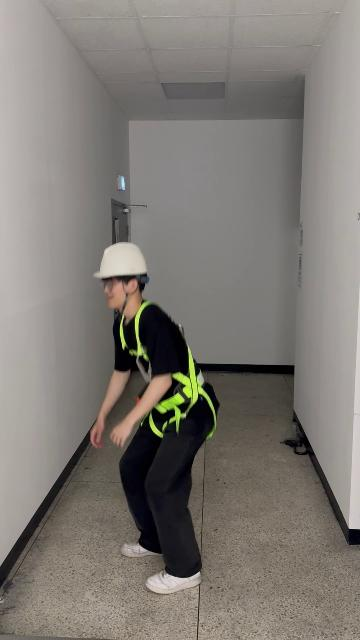helmet_worn: (92, 241, 150, 280)
shoe_not_worn: (145, 569, 202, 596), (120, 540, 160, 558)
vest_worn: (125, 307, 217, 440)
